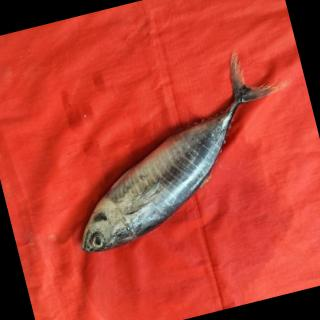Ikan: (30, 33, 320, 271)
